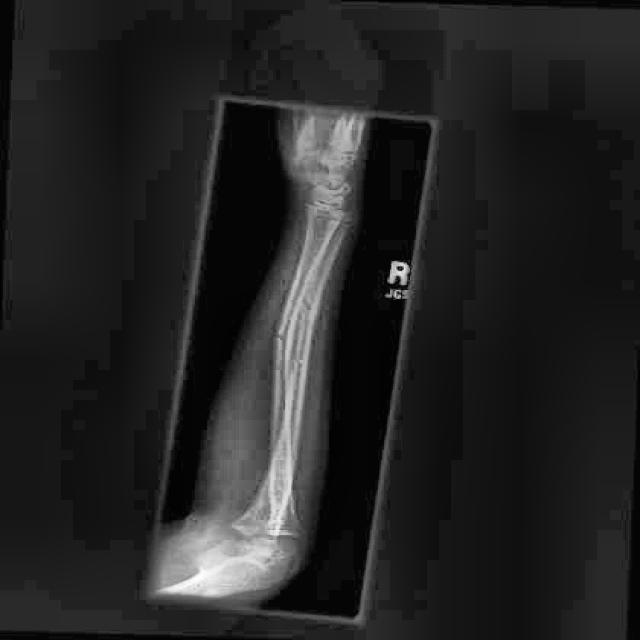forearm fracture: (292, 291, 322, 319), (269, 321, 294, 354)
